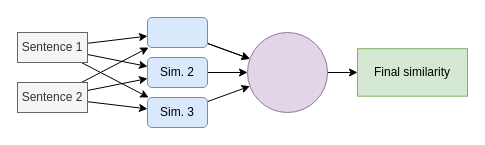
Some shapes in this 485 by 145 pixel diagram are drawn without their labels. Here are the shapes that lost their labels. From the top down, the box of each, then its label:
(146, 16, 208, 48): Sim. 1
(246, 32, 328, 112): Regression
